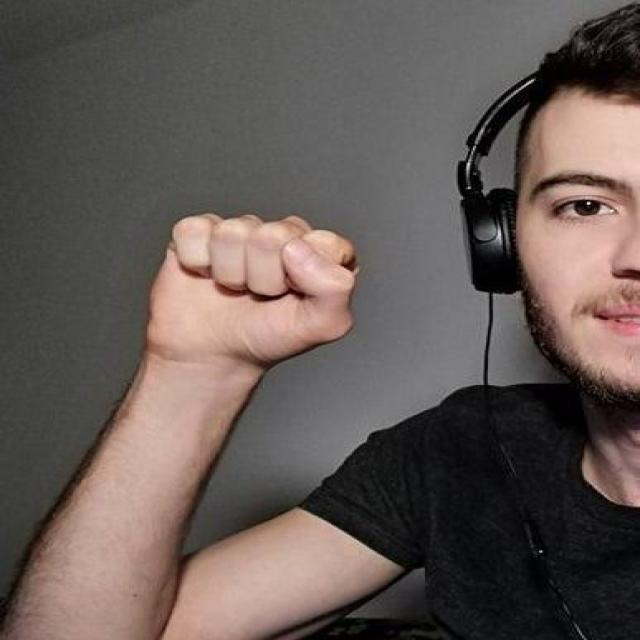hand: (140, 210, 359, 371)
